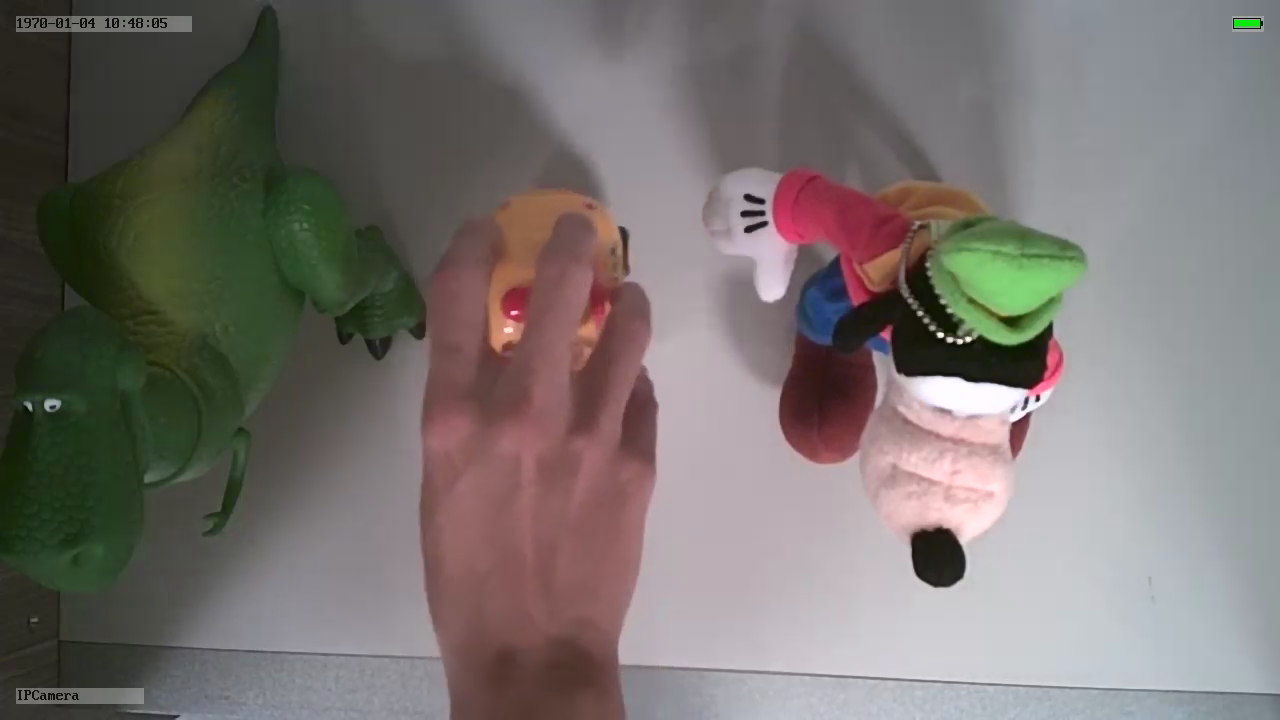goofy: (693, 161, 1093, 590)
